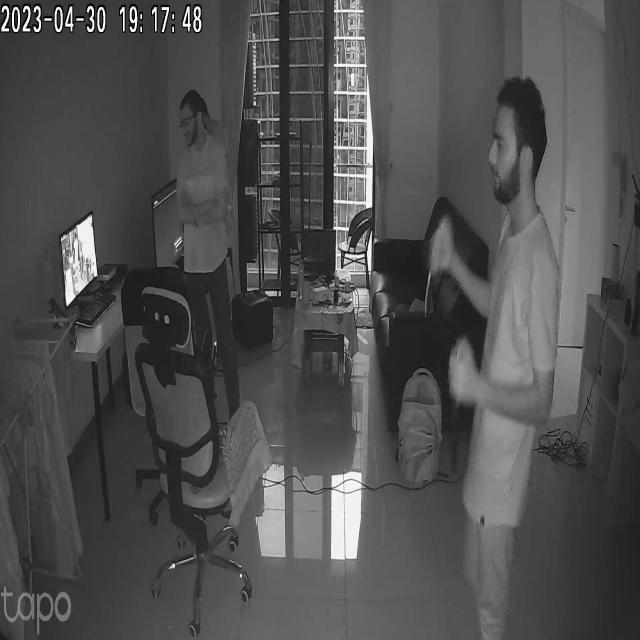Knife: (417, 243, 459, 321)
